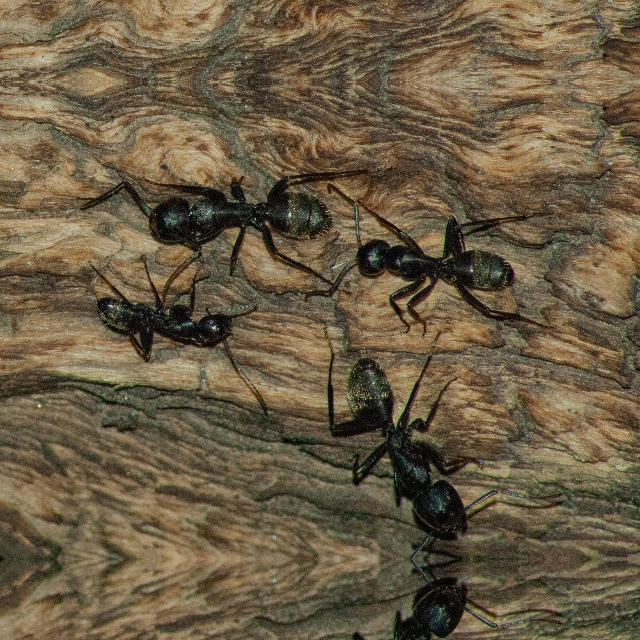Camponotus: (312, 322, 486, 536), (129, 129, 349, 291), (344, 202, 546, 324), (86, 266, 270, 376), (312, 580, 486, 640), (129, 0, 349, 32)
